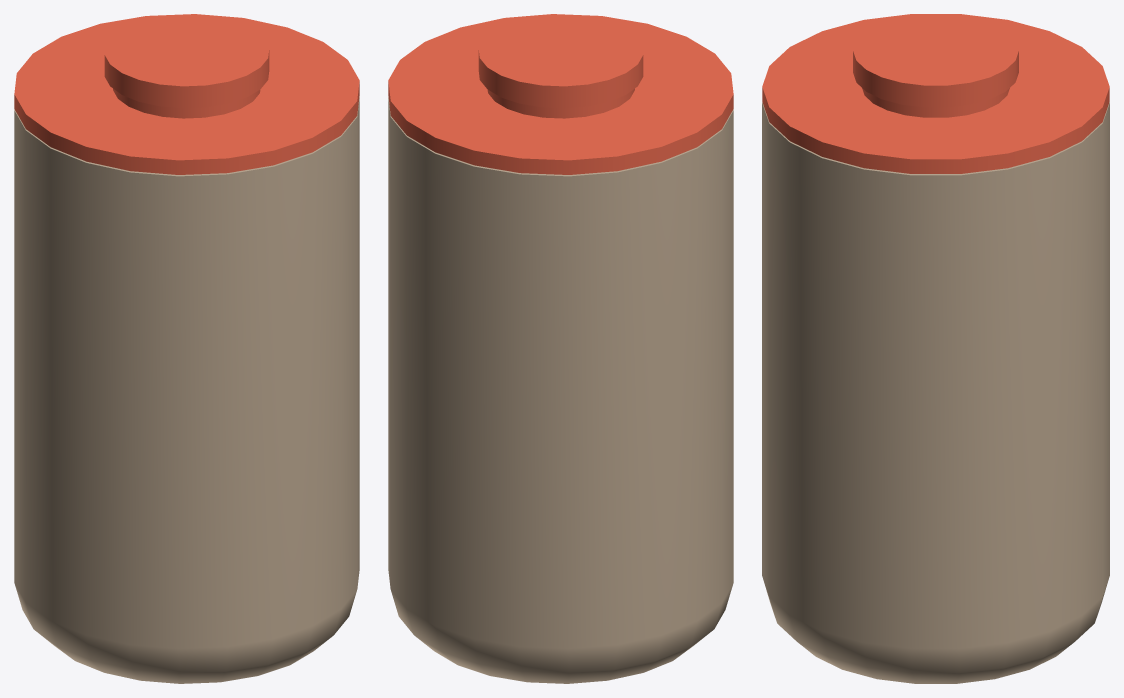
The model's file is container.obj.
3 views of the same model, side by side, from view 1: azimuth 30°, elevation 25°; view 2: azimuth 150°, elevation 25°; view 3: azimuth 270°, elevation 25° (orthographic).
Visible parts, largest first — view 1: container.001, container_cap.001; view 2: container.001, container_cap.001; view 3: container.001, container_cap.001.
Part boxes in pixels (x1,y1,x2,y2): container.001: [14, 96, 359, 683]; container_cap.001: [14, 14, 359, 174]; container.001: [388, 96, 733, 683]; container_cap.001: [388, 14, 733, 174]; container.001: [762, 102, 1109, 683]; container_cap.001: [762, 14, 1109, 173].
Bounding box in the file's own units: 0.0534 × 0.0995 × 0.054.
